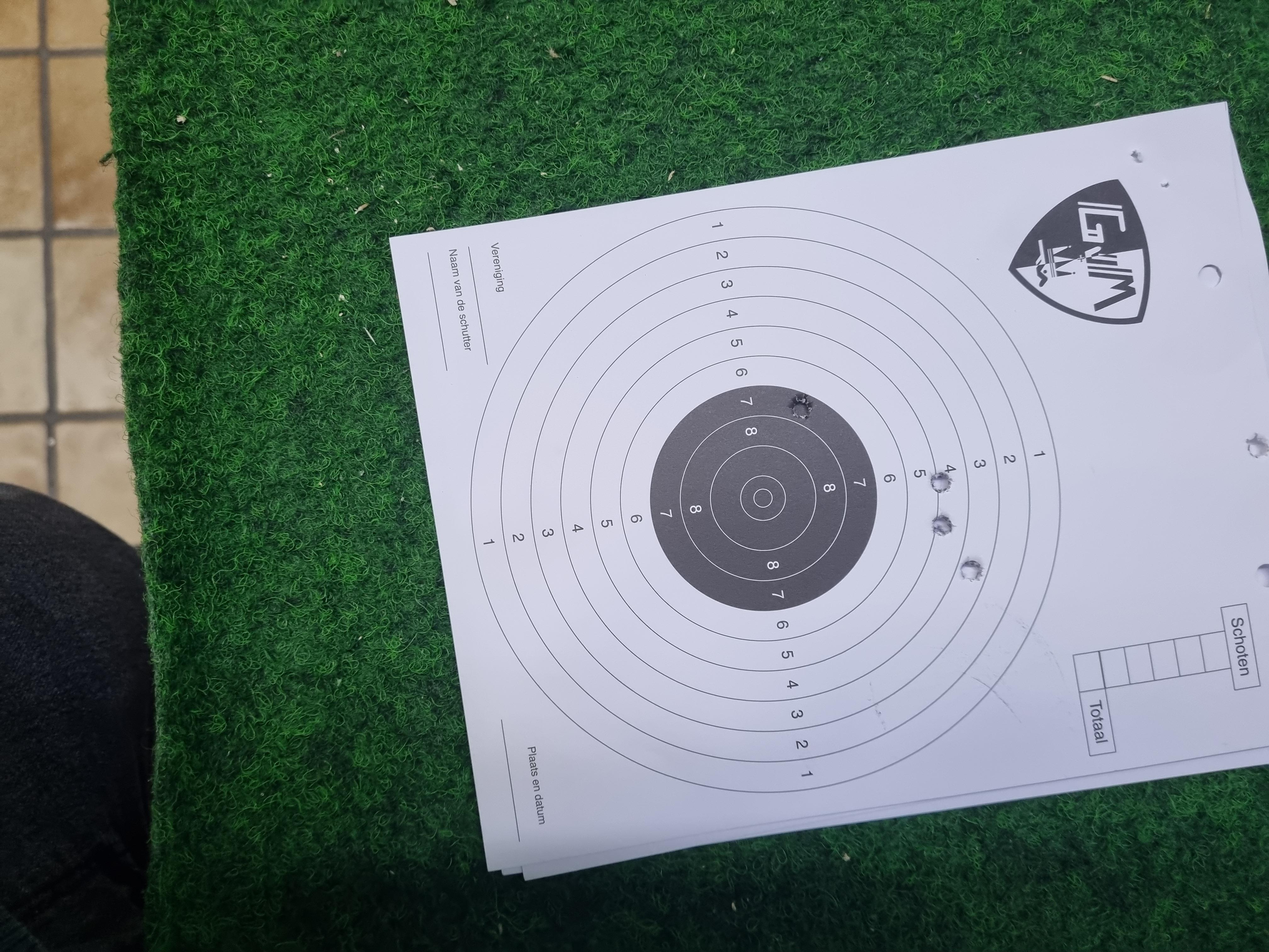hole: (657, 934, 692, 952), (710, 593, 744, 609), (493, 720, 523, 738), (611, 698, 639, 717), (554, 699, 581, 718)
